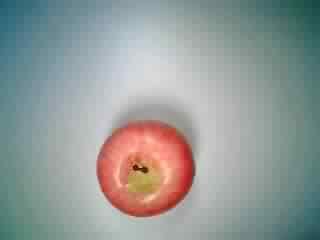apple: (91, 117, 195, 221)
